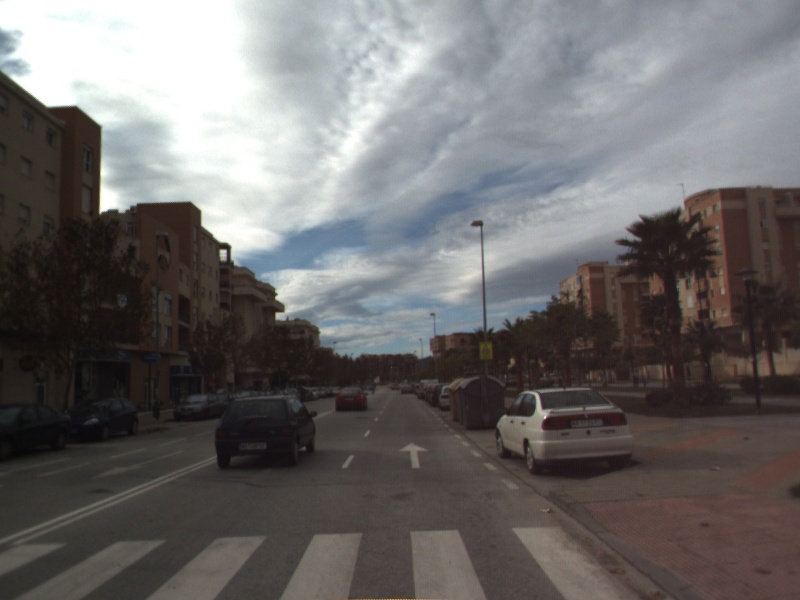STRAIGHT: (397, 440, 431, 470)
